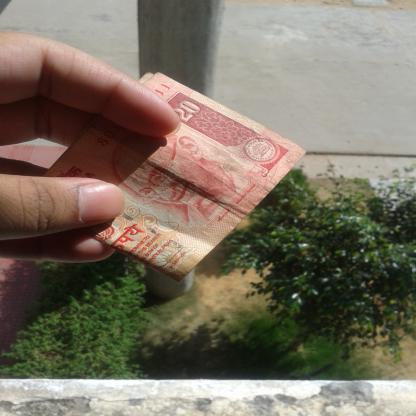Old20Front: (50, 80, 272, 260)
